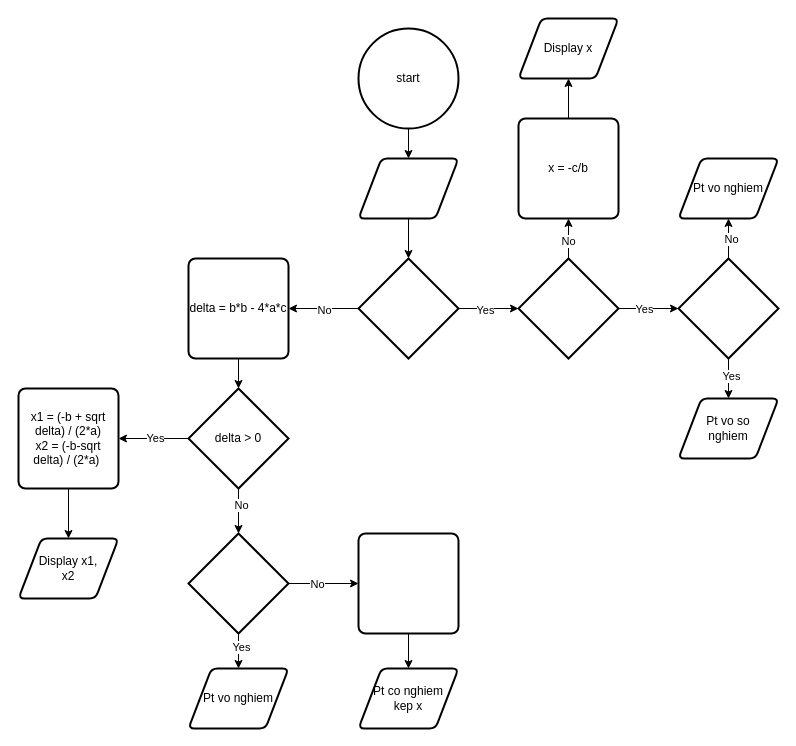
Some shapes in this 796 by 746 pixel diagram are drawn without their labels. The shapes that lost their labels are listed below. From the top down, each one's centre as x and y in pixels, then its label:
the point at 408,188: a, b, c
the point at 408,308: a = 0
the point at 568,308: b = 0
the point at 728,308: c = 0
the point at 238,583: delta < 0
the point at 408,583: x1 = x2 = -b/2a
